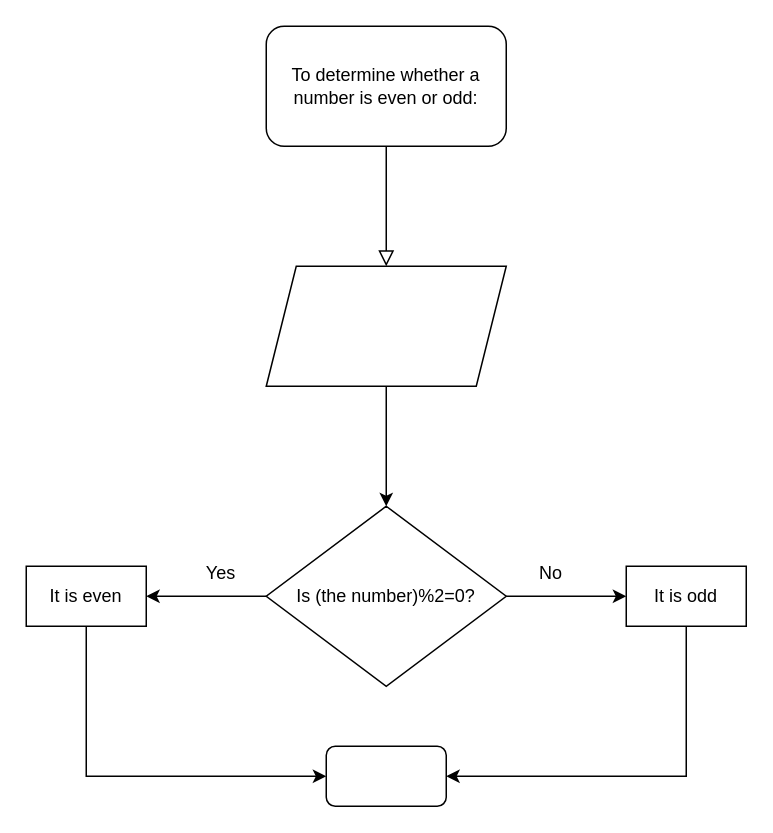
Image size: 773x833. Some labels were removed from this diagram. Here are the shapes that lost their labels. From the top down, the centre of each, then its label:
At (385,325): "Enter the chosen number:".
At (385,775): "End".
